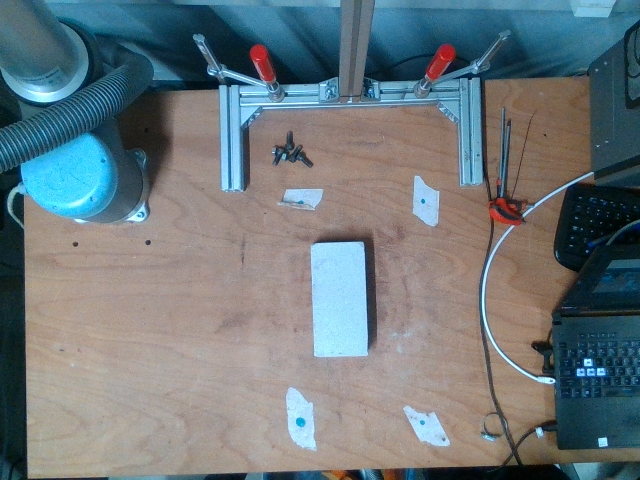brick: (312, 243, 368, 356)
